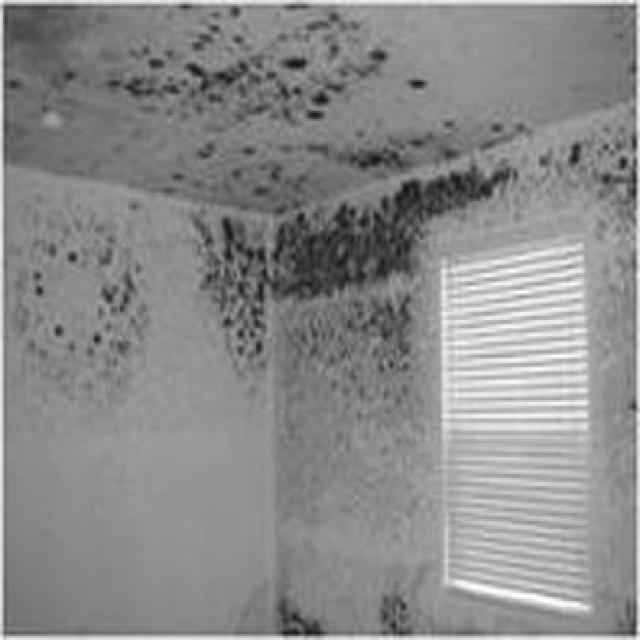stain marks: (8, 4, 440, 117), (190, 213, 430, 406), (166, 118, 518, 212), (14, 203, 153, 398), (524, 111, 638, 211), (274, 587, 329, 634), (374, 578, 418, 630)
